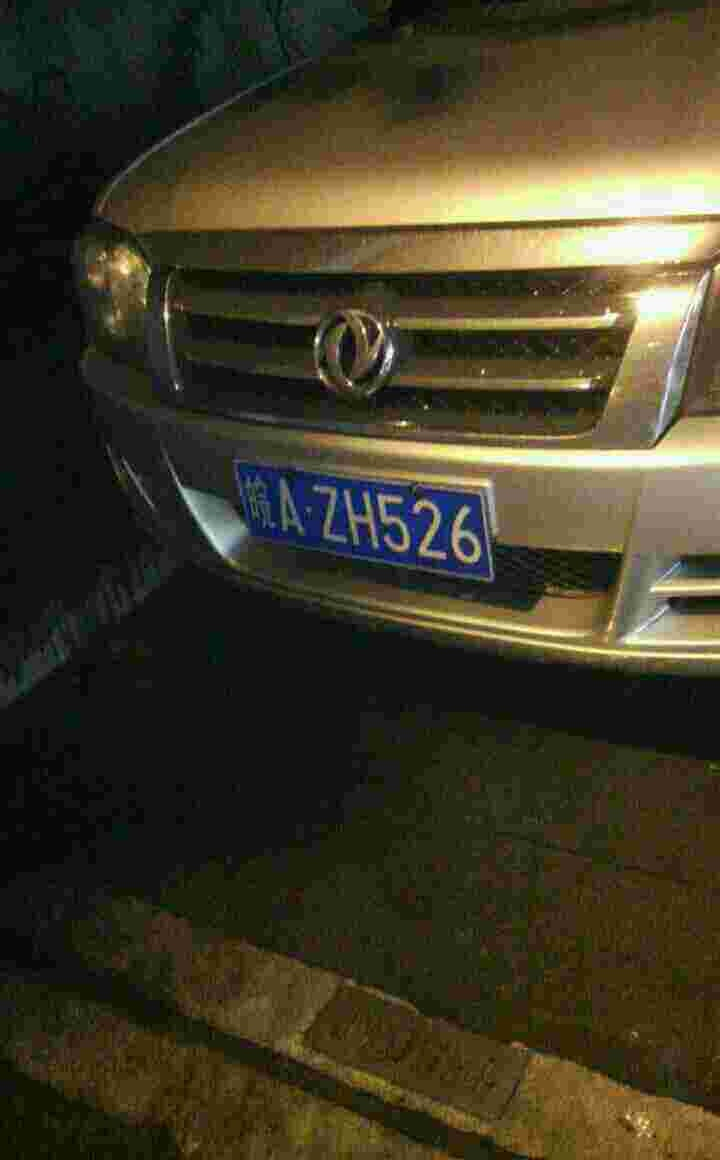license_plate: (237, 460, 492, 582)
